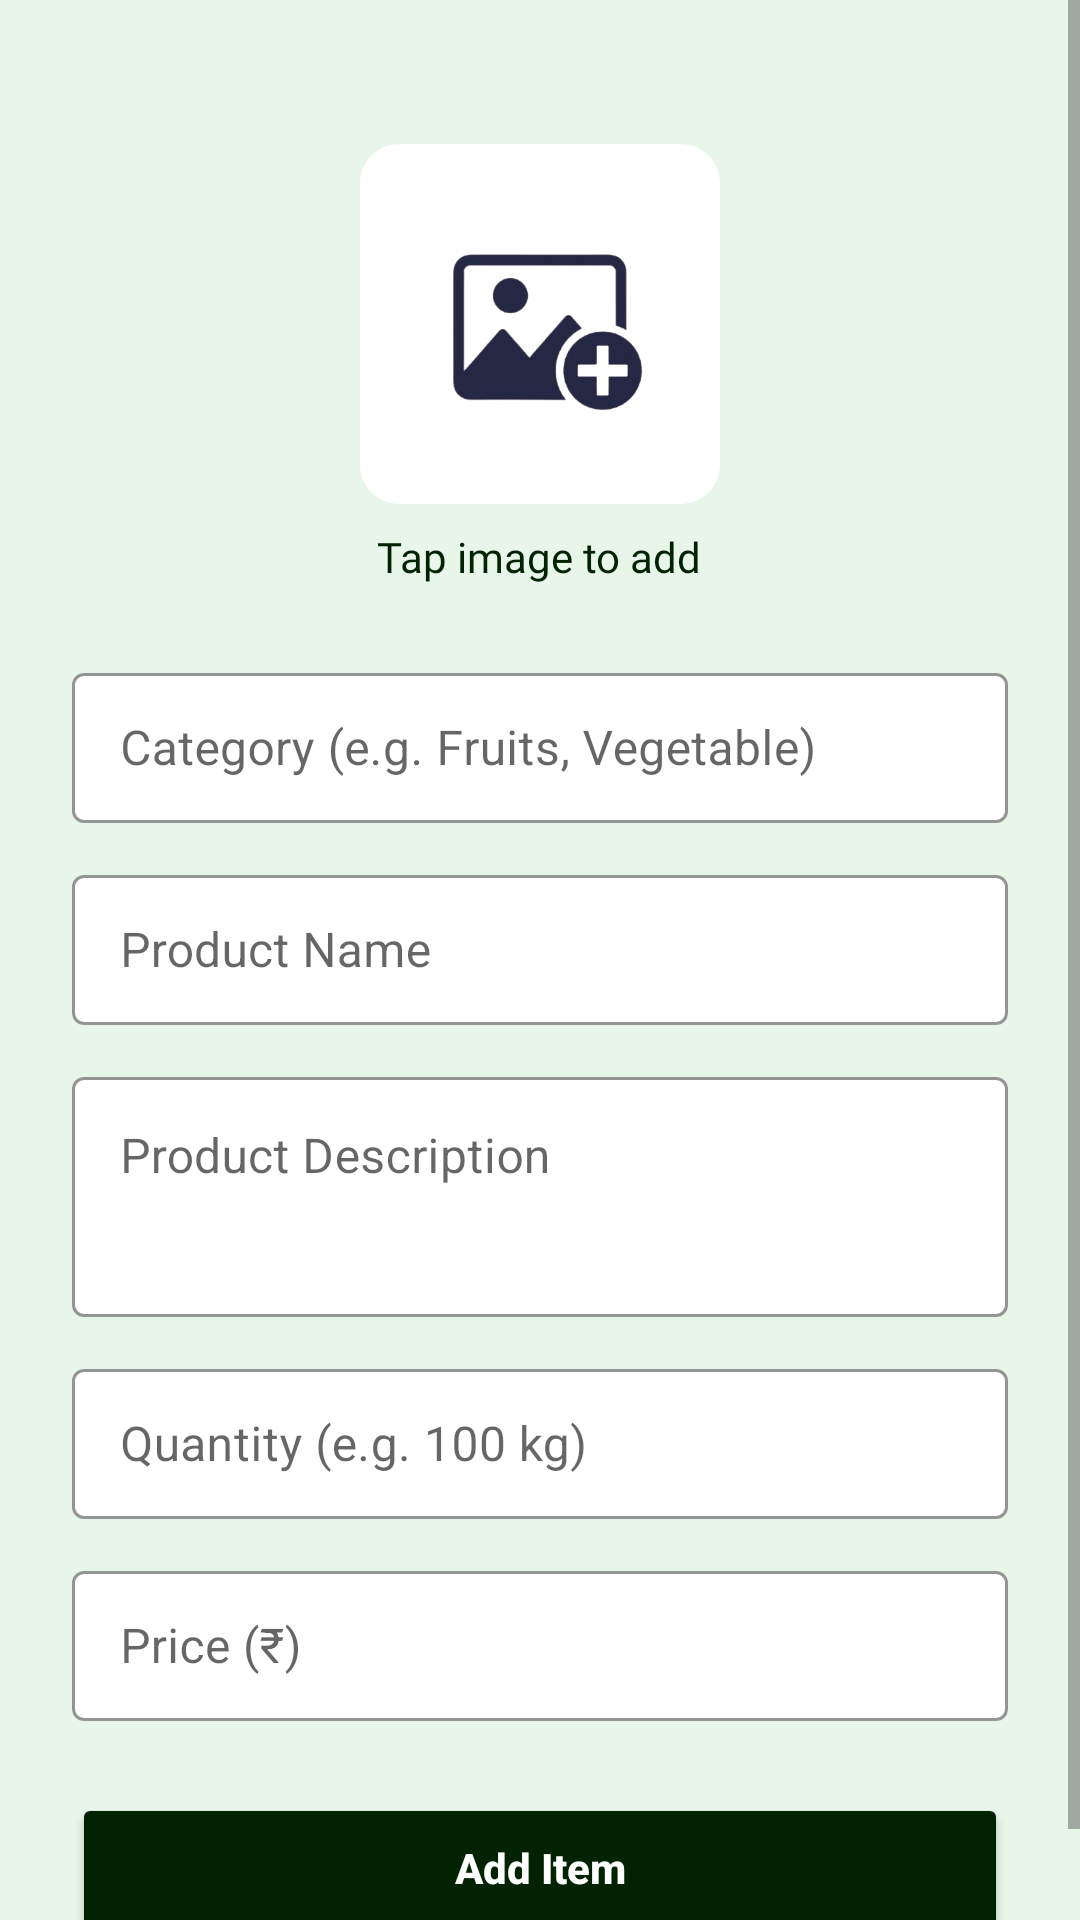

Named icons in this screenshot (1080px×1920px) and their centers, (x,y):
Product Image: (547,332)
